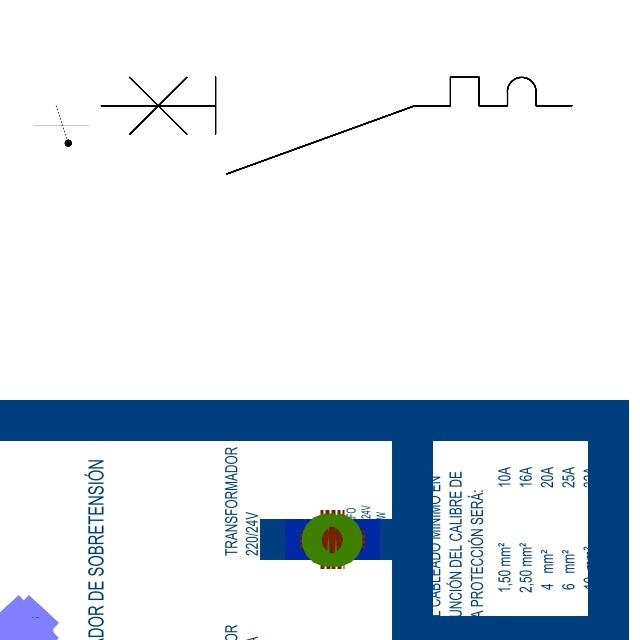interruptor_termomagnetico: (88, 65, 583, 186)
